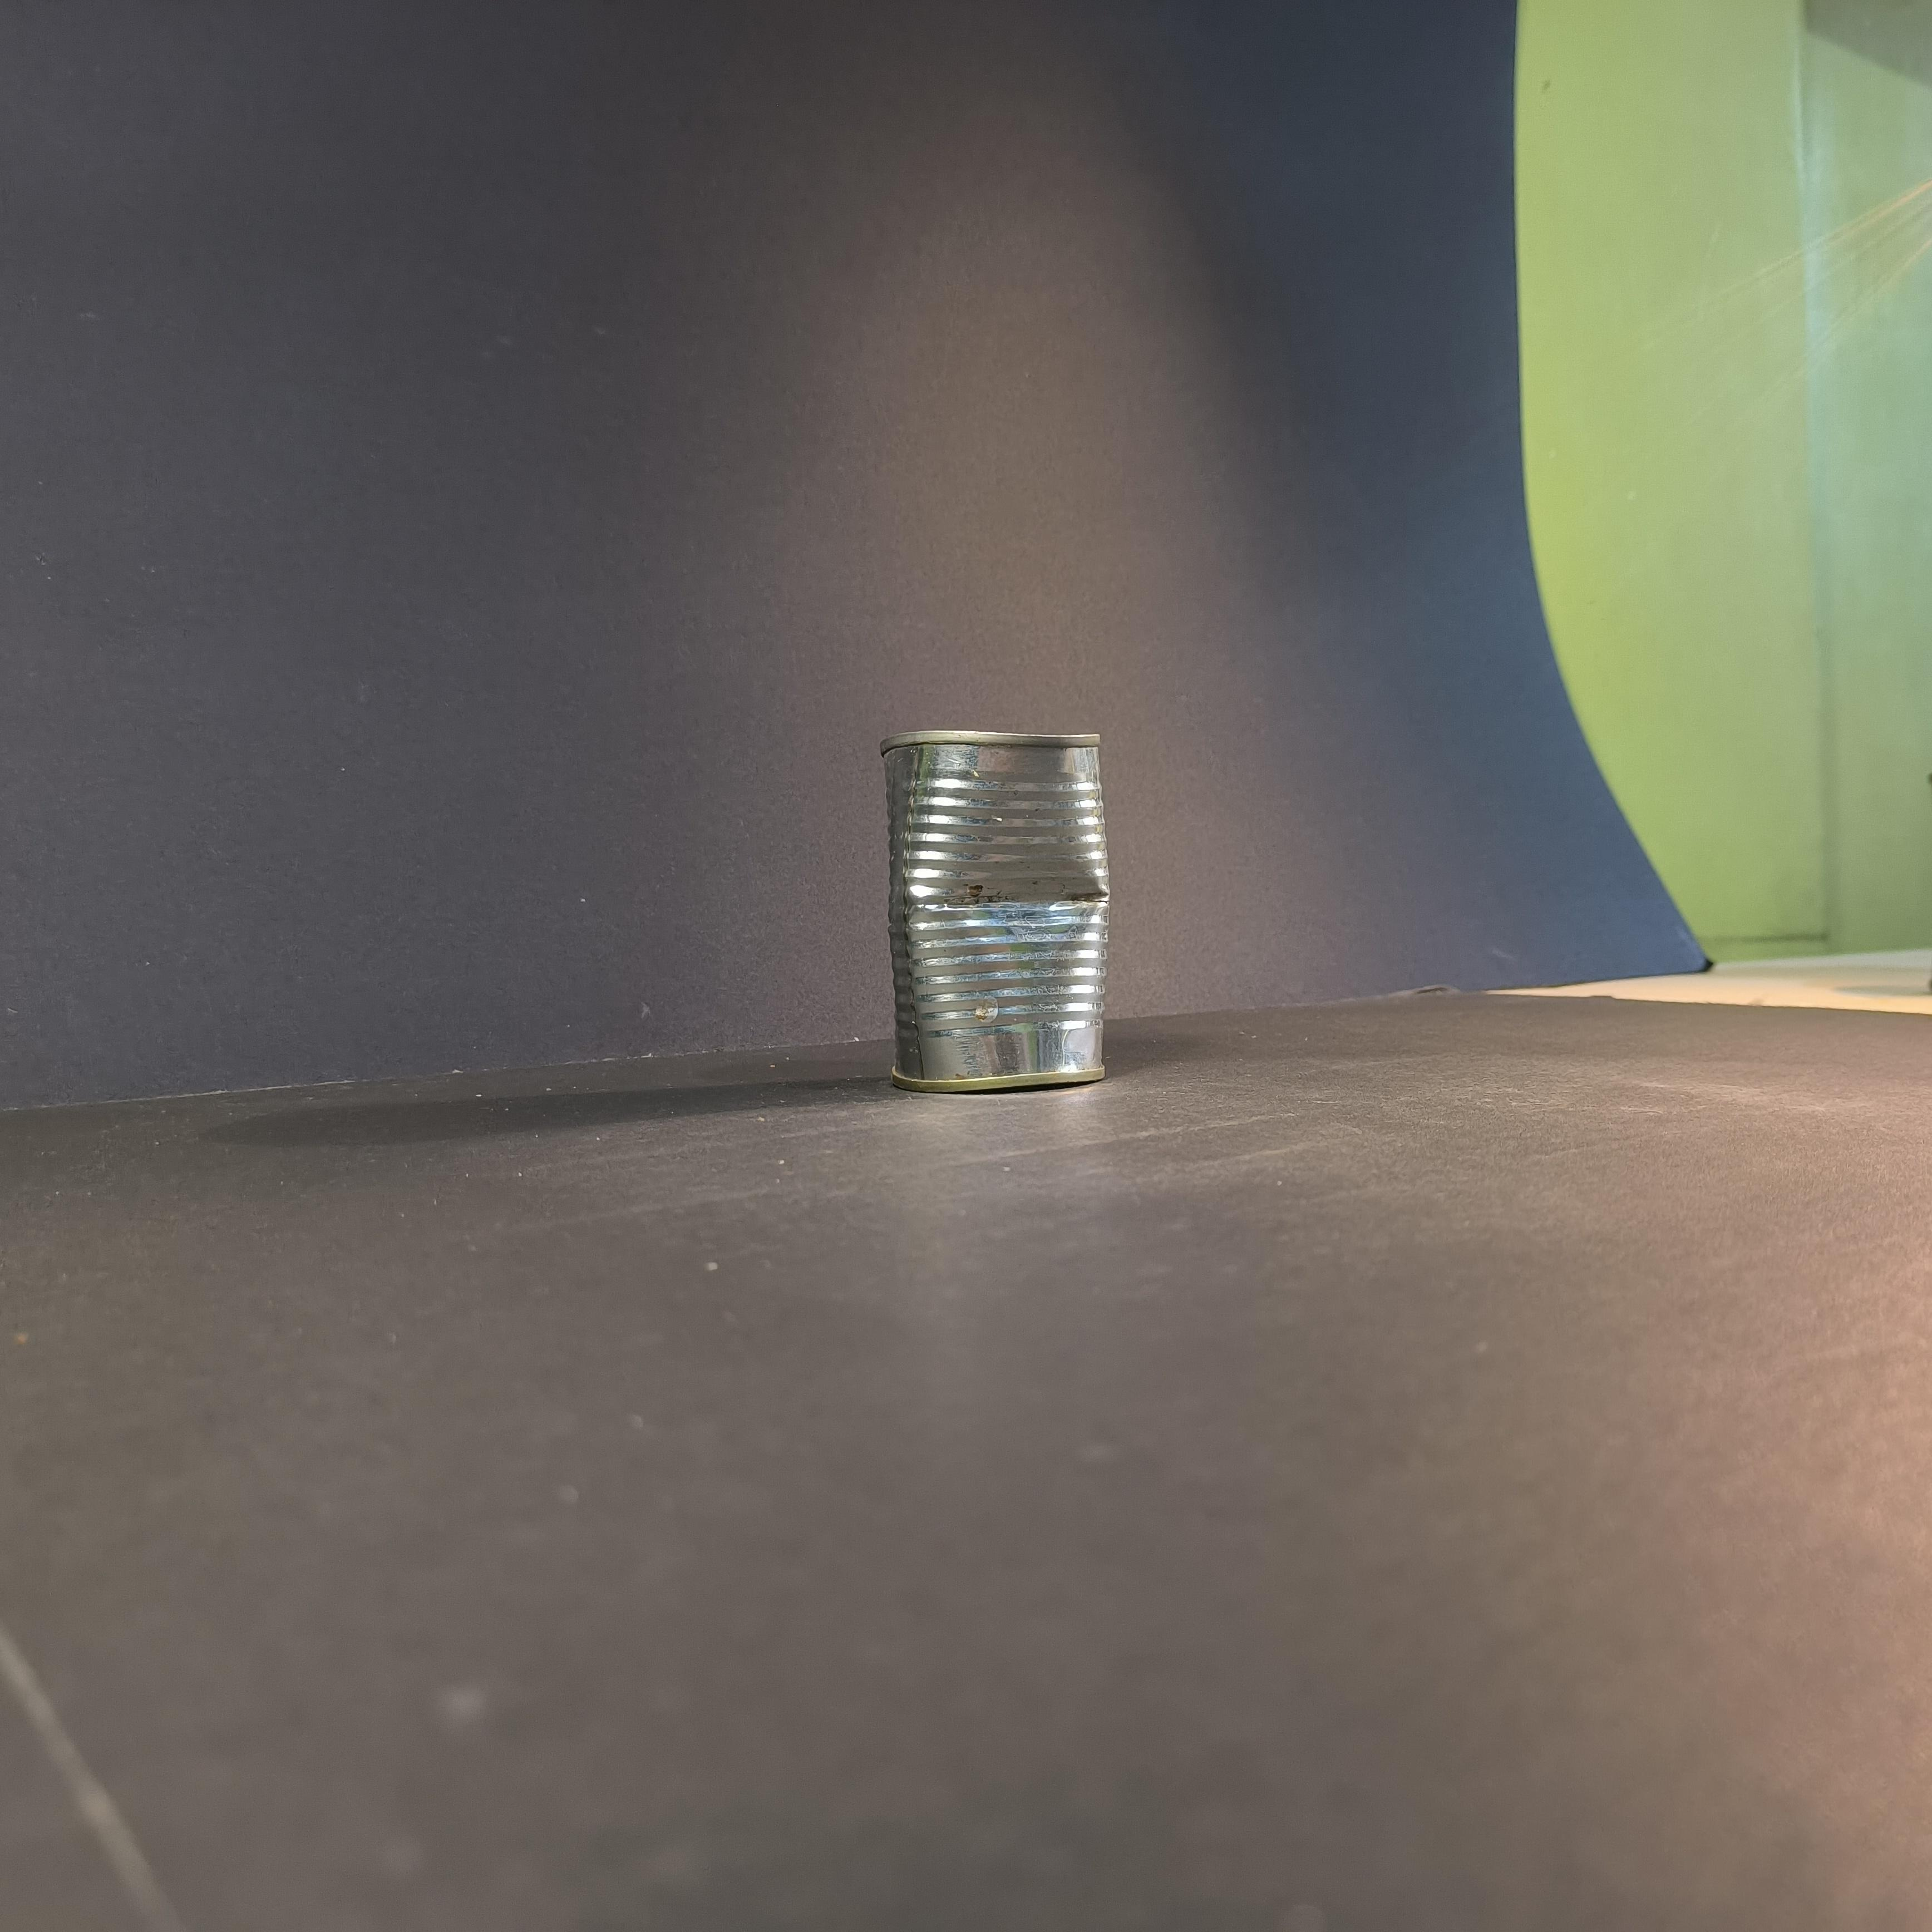Dented: (869, 686, 1122, 1108)
